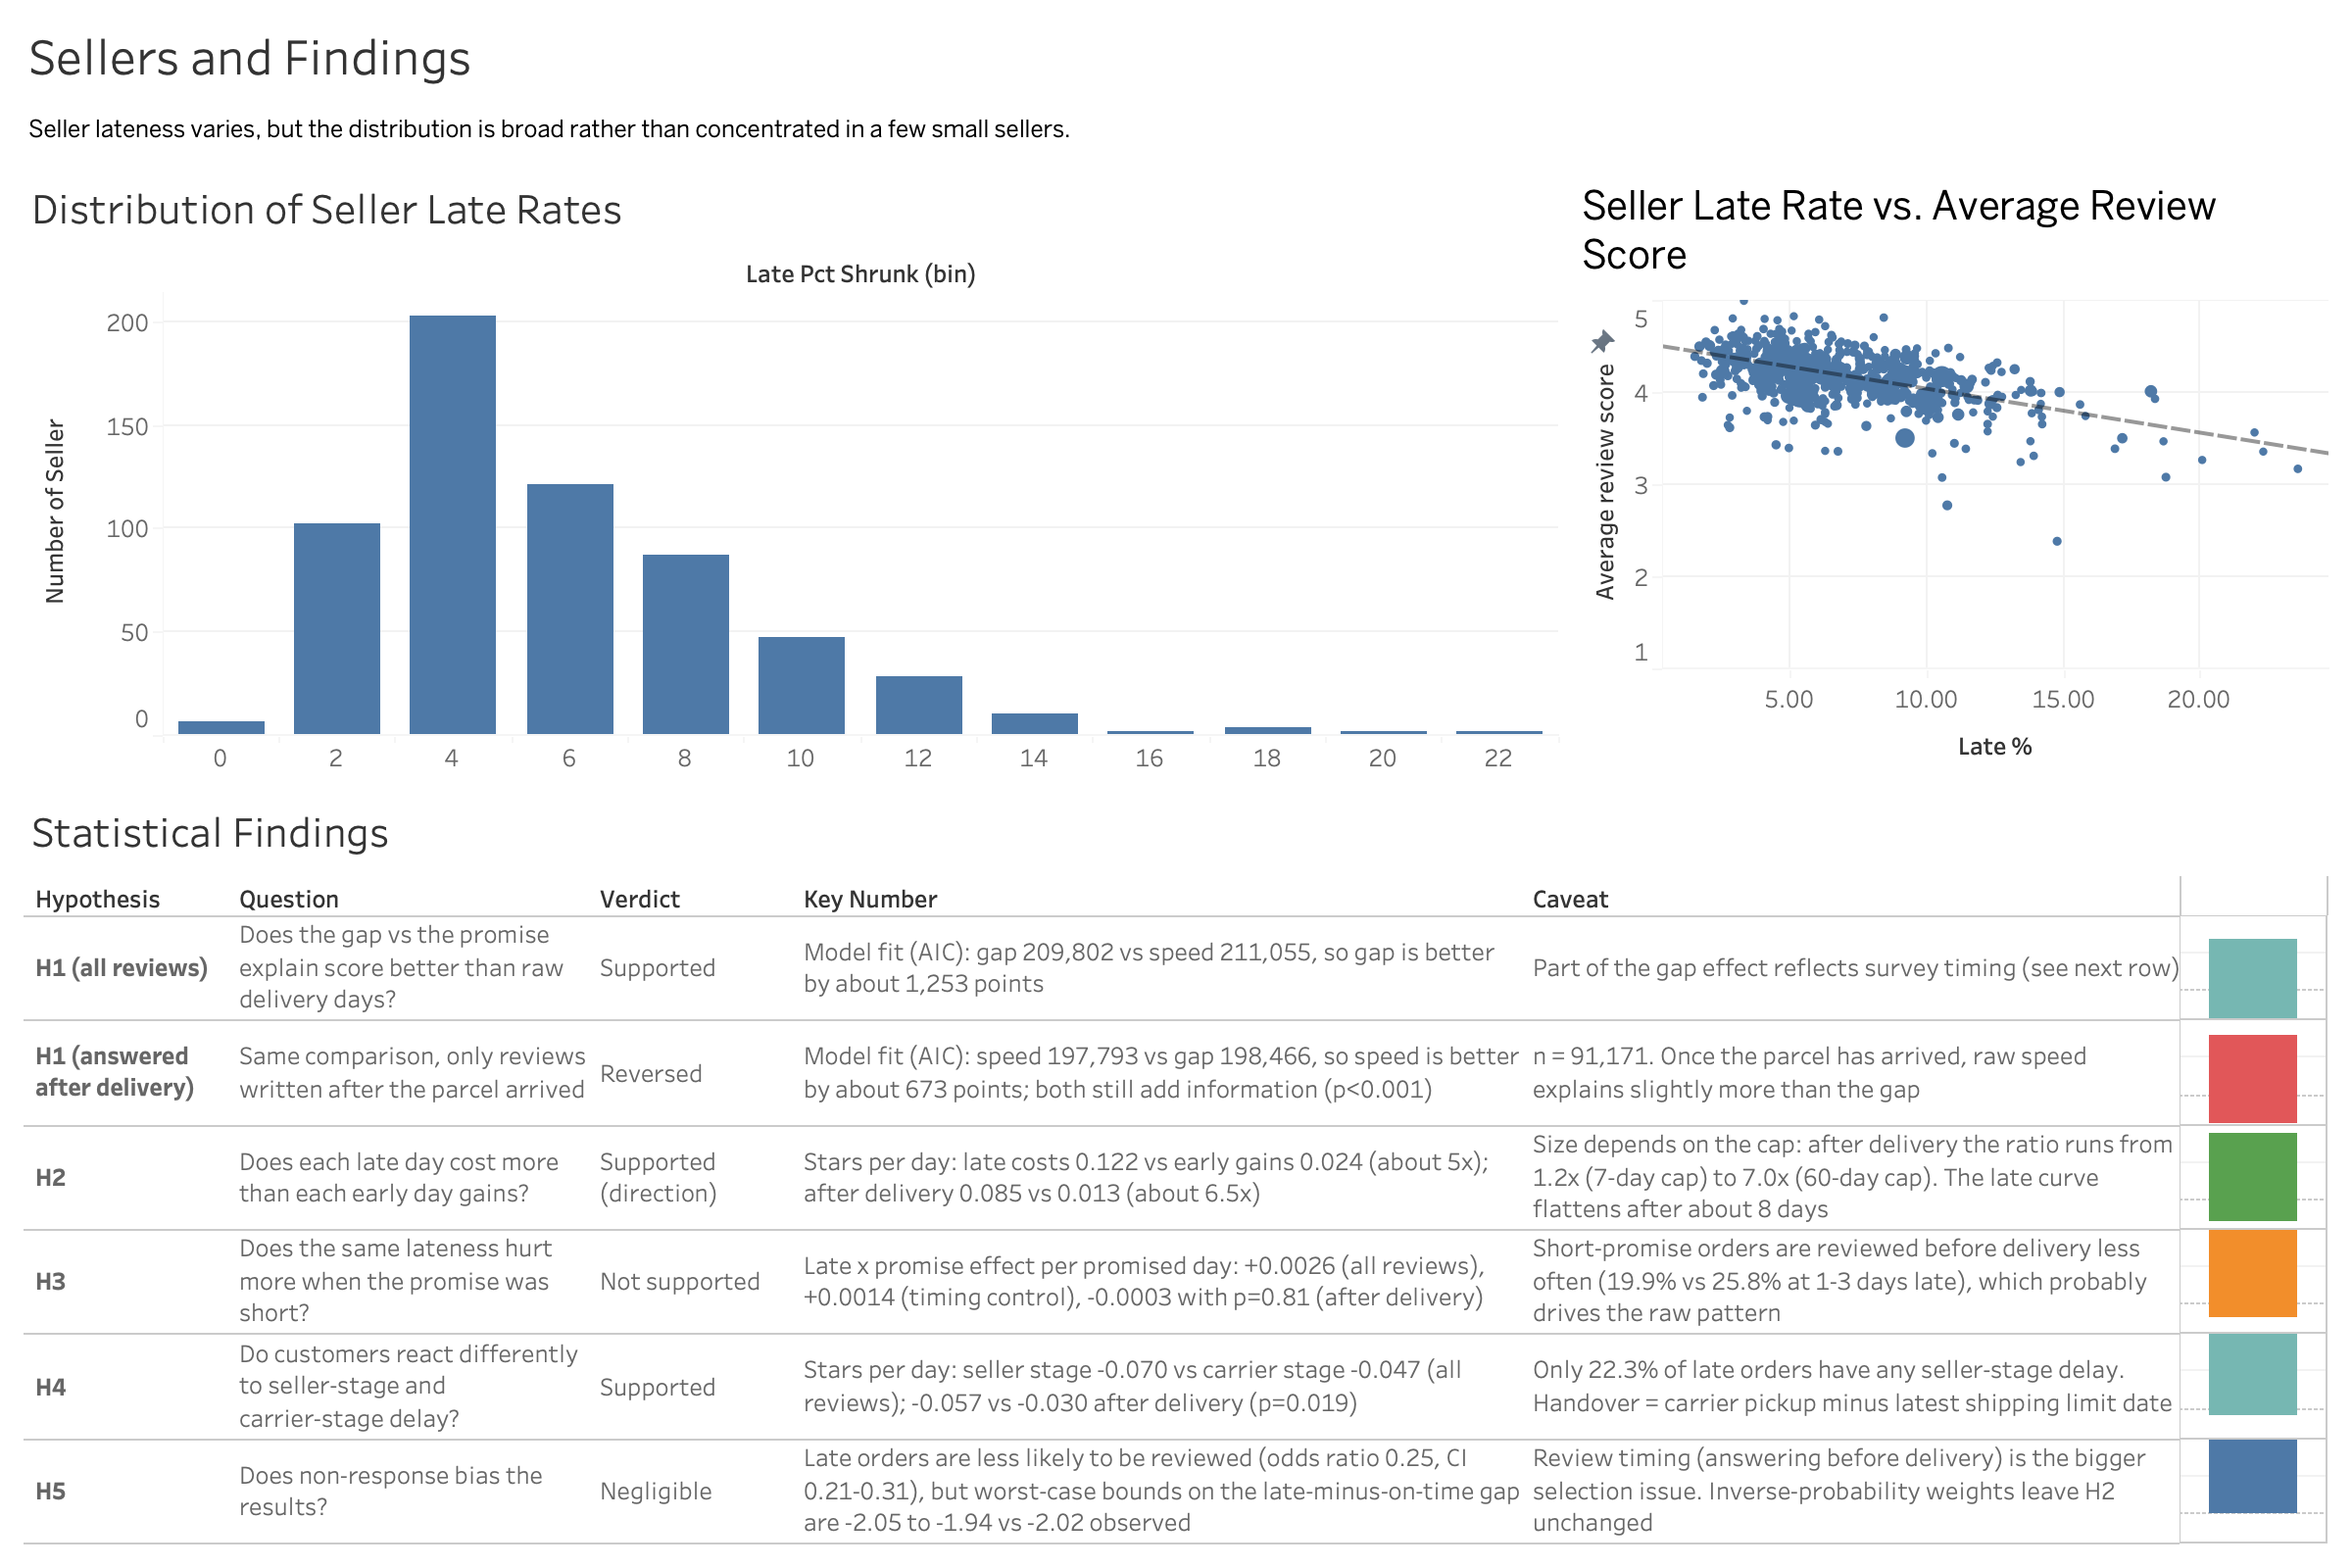

The page's visual inventory and layout, read from the dashboard file:
{"tool":"tableau","page":{"name":"Sellers and Findings","canvas":[1200,800],"ordinal":1},"visuals":[{"type":"title","box":[8,8,1184,42]},{"type":"text","box":[8,50,1184,32]},{"type":"worksheet","title":"Distribution of Seller Late Rates","mark":"Bar","rows":["seller_id"],"cols":["Late Pct Shrunk (bin)"],"box":[8,82,791,318]},{"type":"worksheet","title":"Late % vs Score","mark":"Automatic","rows":["Calculation_3002061690662930"],"cols":["late_pct_shrunk"],"box":[799,82,393,318]},{"type":"worksheet","title":"Statistical Findings","mark":"Square","rows":["hypothesis","question","verdict","key_number","caveat","order"],"box":[8,400,1184,392]}]}

Visuals, with their boxes in screenshot pixels (x1, y1, x2, y2), scaled from the page's 1200x800 canvas onto the 2352x1568 screenshot:
title: BBox(16, 16, 2336, 98)
text: BBox(16, 98, 2336, 161)
"Distribution of Seller Late Rates" worksheet (Bar marks): BBox(16, 161, 1566, 784)
"Late % vs Score" worksheet: BBox(1566, 161, 2336, 784)
"Statistical Findings" worksheet (Square marks): BBox(16, 784, 2336, 1552)
